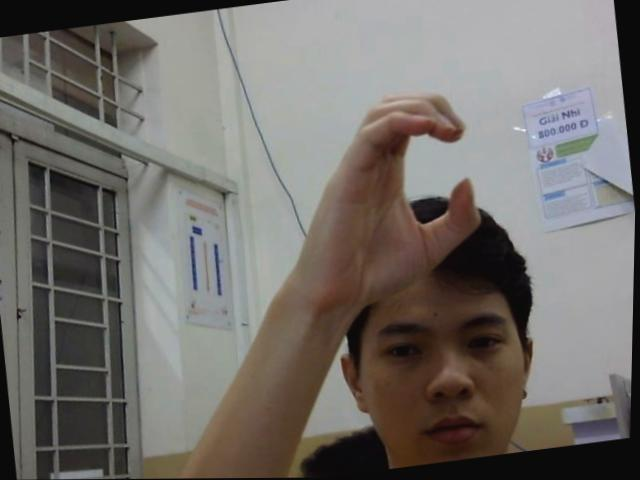C: (275, 81, 492, 309)
